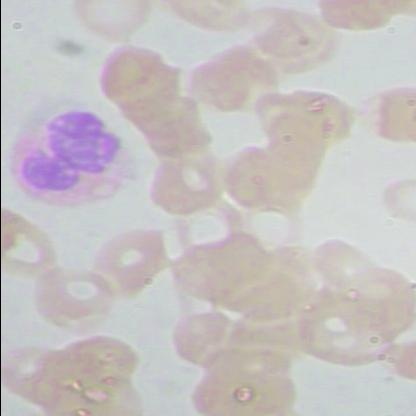RBC: (284, 298, 392, 374), (38, 332, 146, 407), (87, 216, 172, 309), (186, 359, 299, 415), (22, 267, 109, 333), (210, 141, 284, 216), (114, 76, 191, 136), (64, 1, 160, 49), (142, 121, 220, 180), (226, 201, 304, 260), (165, 311, 242, 370), (242, 3, 318, 62), (132, 90, 209, 148), (95, 42, 172, 100), (165, 200, 242, 258), (0, 344, 74, 404), (142, 160, 218, 218), (1, 208, 56, 282), (302, 235, 370, 294), (158, 0, 252, 42), (371, 172, 415, 230)
WBC: (1, 102, 145, 221)
